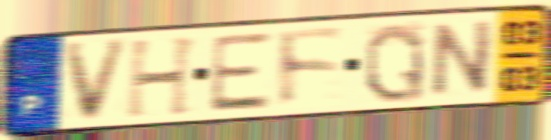E: (206, 30, 273, 115)
F: (276, 25, 348, 111)
H: (124, 33, 203, 121)
N: (426, 17, 498, 100)
Q: (363, 20, 428, 105)
V: (61, 36, 133, 125)
